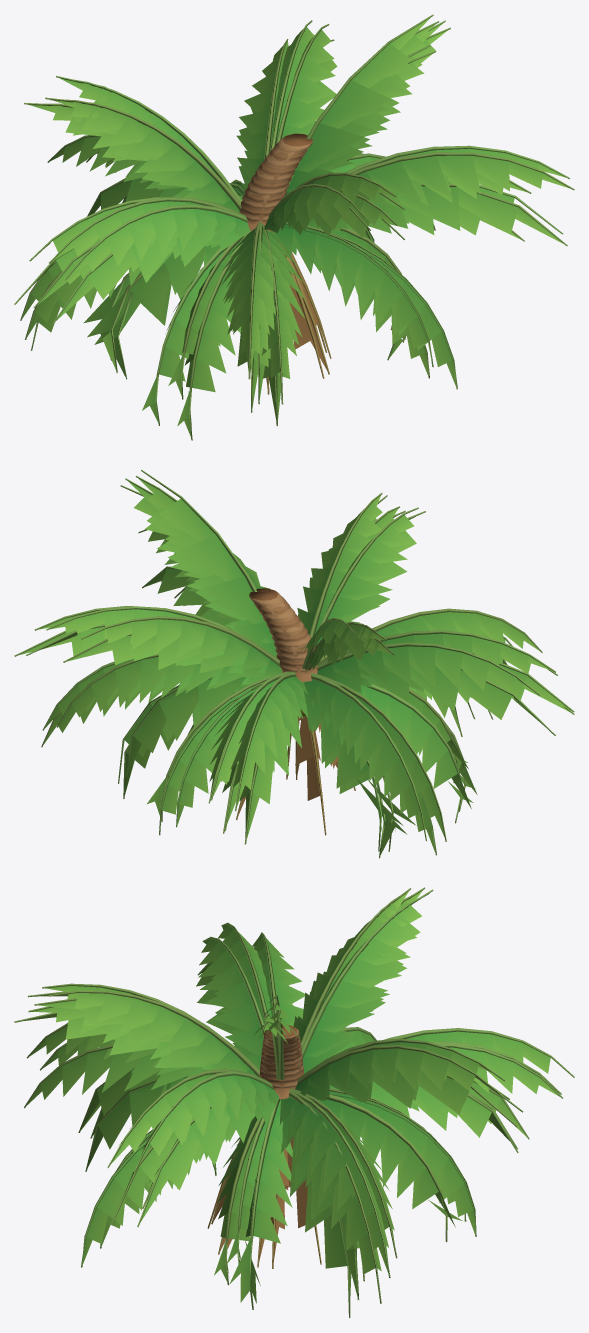
The model's file is palms.glb.
3 renders of one model, top to bottom at view 1: azimuth 30°, elevation 25°; view 2: azimuth 150°, elevation 25°; view 3: azimuth 270°, elevation 25°, orthographic. The views are drawn at different scales.
Parts seen in each view (by area): view 1: palm_Crown2_hi, palm_Crown1_hi, palm_Crown2_lo, palm_Crown0_hi, palm_Crown0_lo, palm_Crown1_lo, palm_Trunk_hi, palm_Trunk_lo; view 2: palm_Crown1_hi, palm_Crown2_hi, palm_Crown0_hi, palm_Crown2_lo, palm_Crown1_lo, palm_Crown0_lo, palm_Trunk_hi, palm_Trunk_lo; view 3: palm_Crown0_hi, palm_Crown2_hi, palm_Crown1_hi, palm_Crown0_lo, palm_Crown1_lo, palm_Crown2_lo, palm_Trunk_hi.
Boxes of the visible parts, x1,y1,x2,y2 form: palm_Crown2_hi: (30,21,574,425); palm_Crown1_hi: (20,20,569,399); palm_Crown2_lo: (24,14,567,425); palm_Crown0_hi: (25,24,531,440); palm_Crown0_lo: (33,20,524,404); palm_Crown1_lo: (14,35,563,412); palm_Trunk_hi: (239,133,312,231); palm_Trunk_lo: (242,134,311,225); palm_Crown1_hi: (46,506,542,841); palm_Crown2_hi: (41,475,557,855); palm_Crown0_hi: (34,485,555,841); palm_Crown2_lo: (63,469,574,858); palm_Crown1_lo: (26,510,555,851); palm_Crown0_lo: (14,478,574,851); palm_Trunk_hi: (249,588,320,681); palm_Trunk_lo: (251,588,317,681); palm_Crown0_hi: (40,893,562,1277); palm_Crown2_hi: (24,894,574,1303); palm_Crown1_hi: (26,893,561,1309); palm_Crown0_lo: (34,889,518,1299); palm_Crown1_lo: (14,888,523,1281); palm_Crown2_lo: (27,887,529,1317); palm_Trunk_hi: (259,1025,304,1098).
Bounding box in the file's own units: 7.38 × 4.61 × 6.89.
